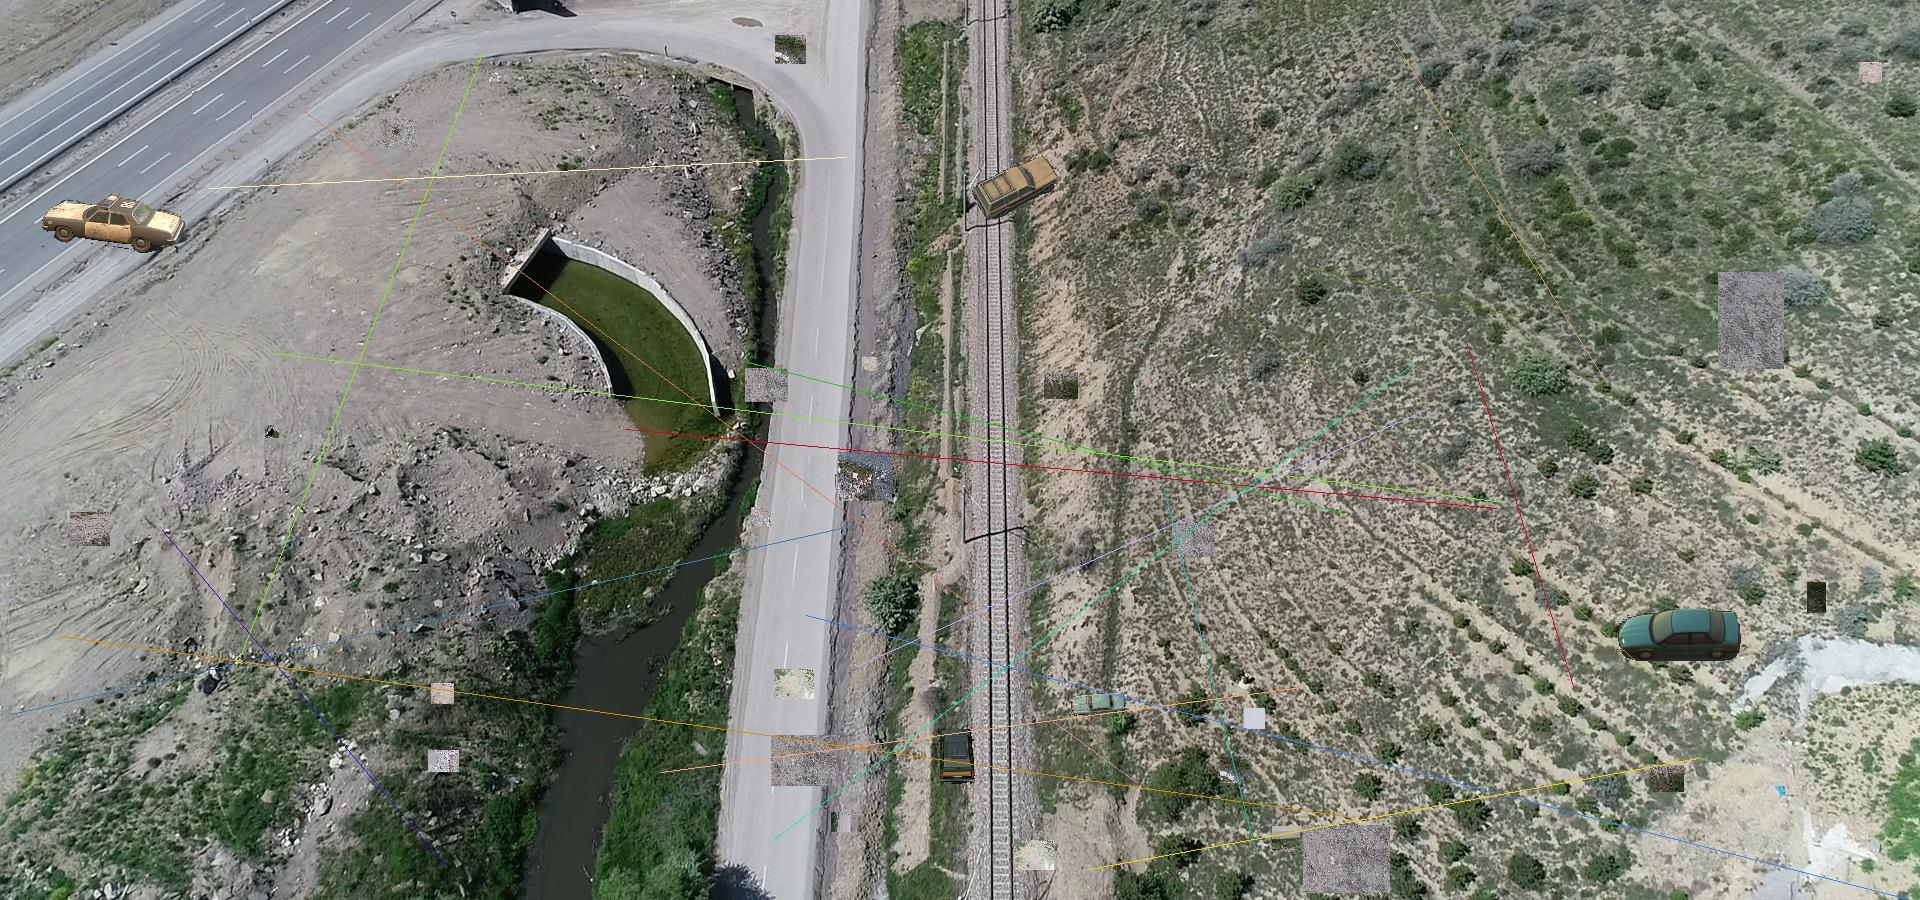arac: (42, 192, 186, 253), (1616, 609, 1742, 661), (970, 153, 1060, 220), (936, 729, 976, 784), (1067, 692, 1127, 718)
